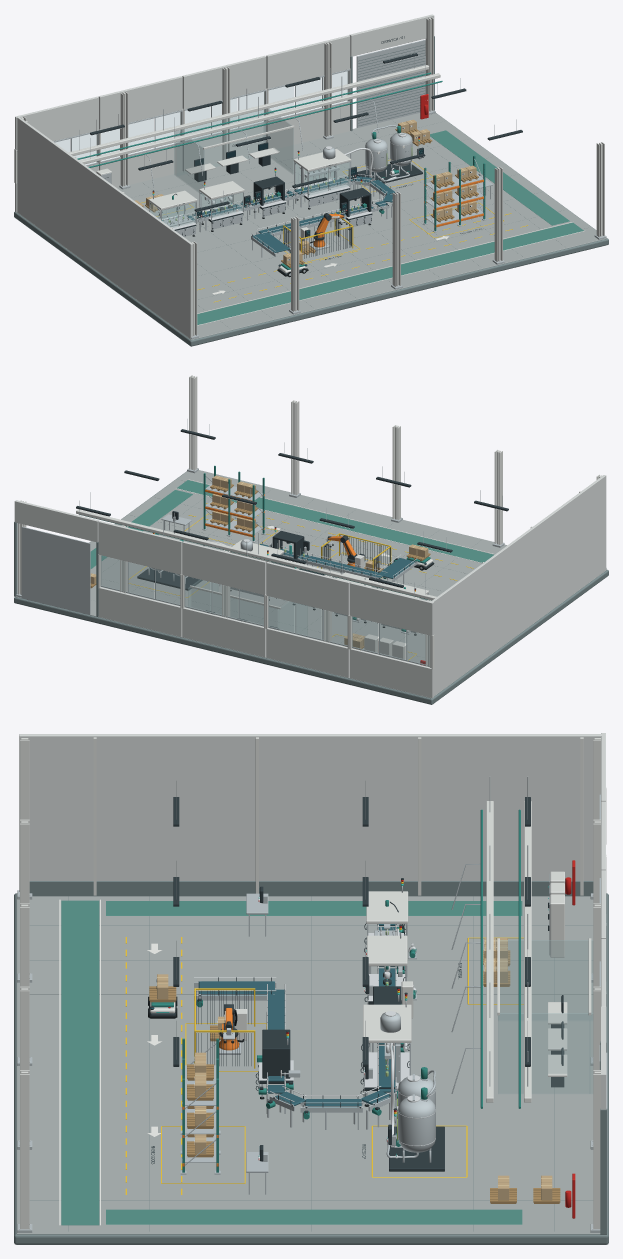
Rendered from hall.glb.
3 renders of one model, top to bottom at view 1: azimuth 30°, elevation 25°; view 2: azimuth 150°, elevation 25°; view 3: azimuth 270°, elevation 25°, orthographic. The views are drawn at different scales.
Parts seen in each view (by area): view 1: Sealed epoxy floor, West wall, Reinforced floor slab, Pedestrian route, Loading shutter, Back wall upper.003, Back wall upper.002, Back wall upper.001, Control room rear, Back wall upper, Side pedestrian route.001, Back insulated wall lower.003 (+24 smaller); view 2: Sealed epoxy floor, West wall, Loading shutter, Reinforced floor slab, Back wall upper.002, Back wall upper.003, Back wall upper.001, Back wall upper, Pedestrian route, Back insulated wall lower.002, Back insulated wall lower.003, Back insulated wall lower (+23 smaller); view 3: Sealed epoxy floor, West wall, Pedestrian route, Reinforced floor slab, Wall impact skirting, Control room side.001, Side pedestrian route.001, Control room side, Side pedestrian route, Overhead service trunk, Dished sanitary vessel.001, Overhead service trunk.001 (+17 smaller).
Boxes of the visible parts, x1,y1,x2,y2 form: Sealed epoxy floor: (17, 113, 606, 339); West wall: (17, 117, 192, 338); Reinforced floor slab: (14, 113, 608, 346); Pedestrian route: (197, 222, 583, 324); Loading shutter: (356, 39, 425, 127); Back wall upper.003: (266, 35, 350, 88); Back wall upper.002: (182, 55, 266, 109); Back wall upper.001: (98, 76, 182, 129); Control room rear: (177, 109, 265, 175); Back wall upper: (15, 96, 98, 149); Side pedestrian route.001: (430, 130, 569, 225); Back insulated wall lower.003: (266, 102, 350, 149); Sealed epoxy floor: (16, 470, 606, 698); West wall: (430, 475, 606, 695); Loading shutter: (21, 526, 90, 614); Reinforced floor slab: (14, 471, 608, 704); Back wall upper.002: (182, 541, 266, 594); Back wall upper.003: (98, 521, 182, 574); Back wall upper.001: (266, 562, 350, 615); Back wall upper: (350, 582, 433, 635); Pedestrian route: (177, 480, 494, 562); Back insulated wall lower.002: (182, 607, 266, 657); Back insulated wall lower.003: (98, 587, 182, 636); Back insulated wall lower: (350, 648, 433, 698); Sealed epoxy floor: (16, 893, 606, 1234); West wall: (19, 734, 601, 891); Pedestrian route: (61, 900, 99, 1225); Reinforced floor slab: (14, 893, 608, 1244); Wall impact skirting: (29, 881, 593, 896); Control room side.001: (498, 1013, 592, 1093); Side pedestrian route.001: (106, 1209, 522, 1224); Control room side: (498, 940, 592, 1020); Side pedestrian route: (106, 901, 522, 915); Overhead service trunk: (486, 801, 493, 1102); Dished sanitary vessel.001: (398, 1096, 435, 1152); Overhead service trunk.001: (524, 801, 531, 1102).
Bounding box in the file's own units: 30.01 × 6.97 × 22.
